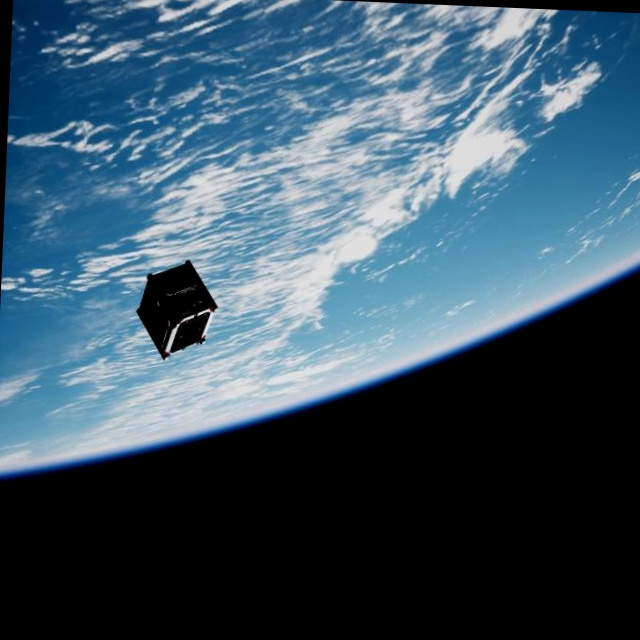satellite: (133, 254, 226, 366)
